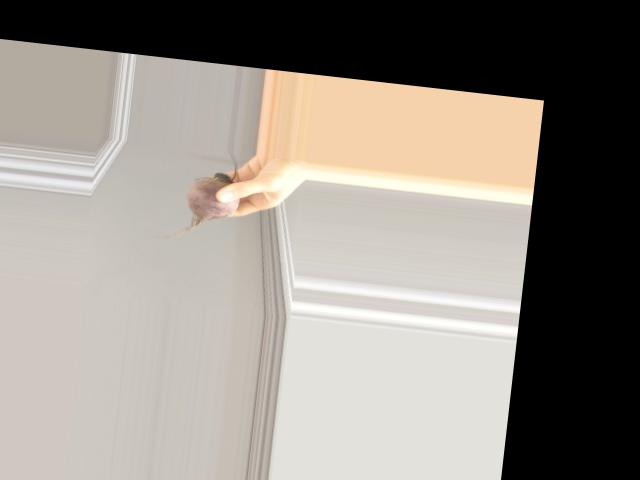beet: (154, 143, 244, 246)
